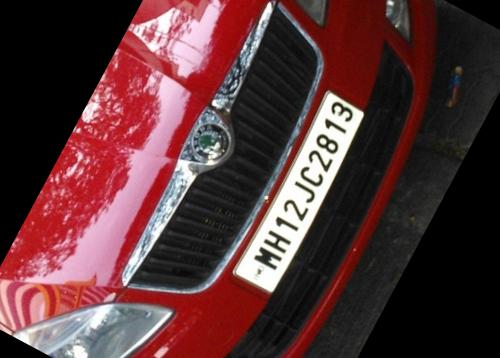plate: (219, 75, 380, 301)
